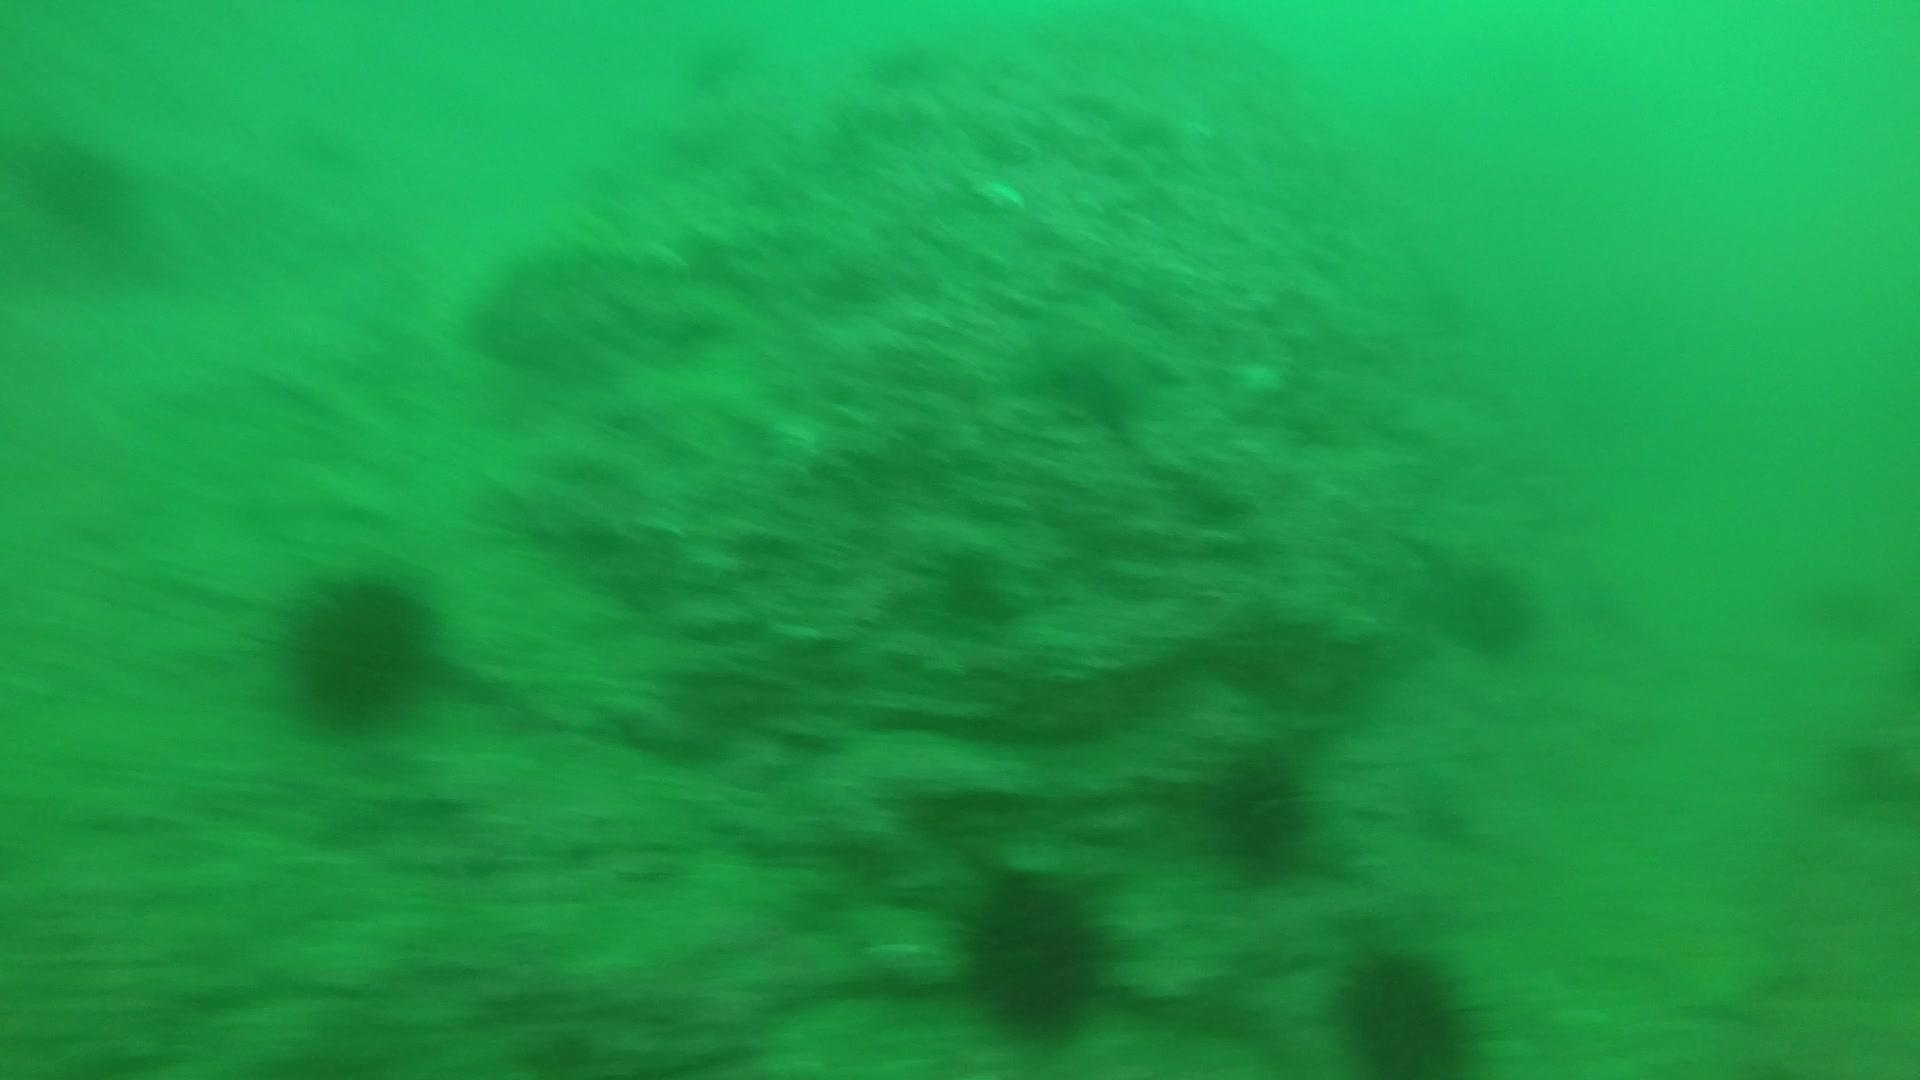echinus: (266, 560, 444, 736), (949, 862, 1121, 1040), (1328, 939, 1490, 1077), (11, 121, 156, 252), (1201, 746, 1319, 881), (1436, 553, 1544, 659)
starfish: (1010, 276, 1188, 429)
